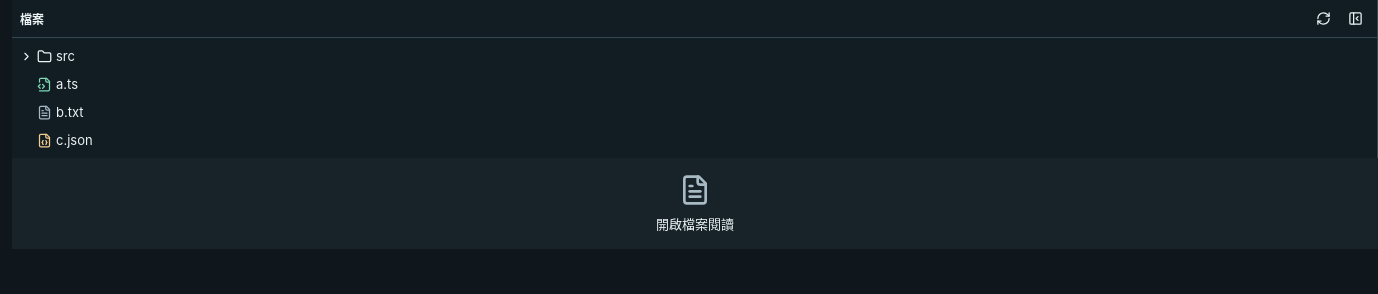
Test: closes active last file only, scopes shortcuts, and supports keyboard resizing/reordering
Double-click the button "a.ts".
double_click(44, 84)  # box [16,70,1373,98]
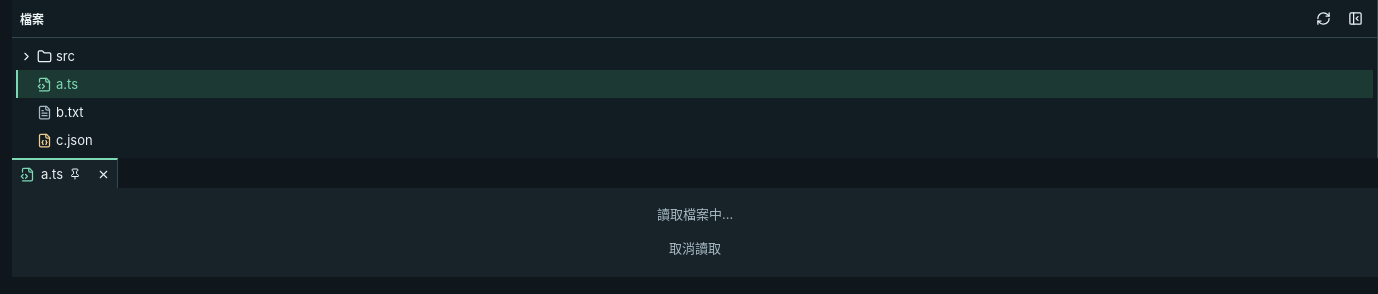
Double-click the button "b.txt".
double_click(44, 112)  # box [16,98,1373,126]
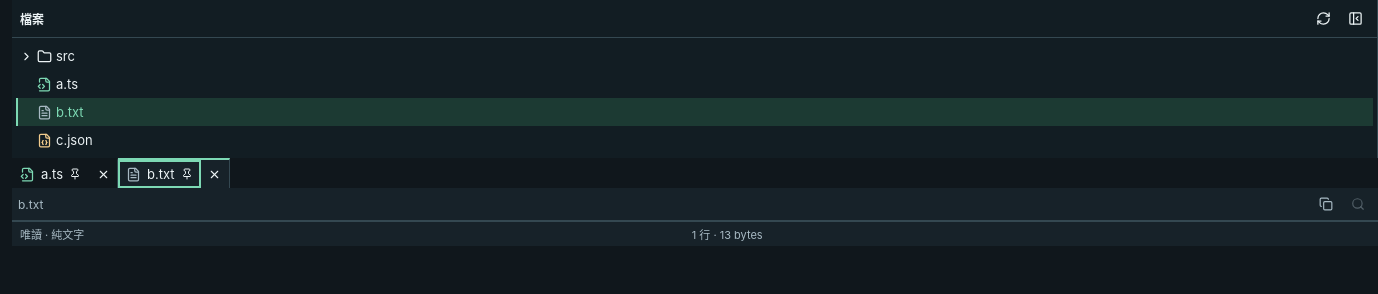
Press ArrowLeft in the tab "b.txt", box [118,160,201,188]
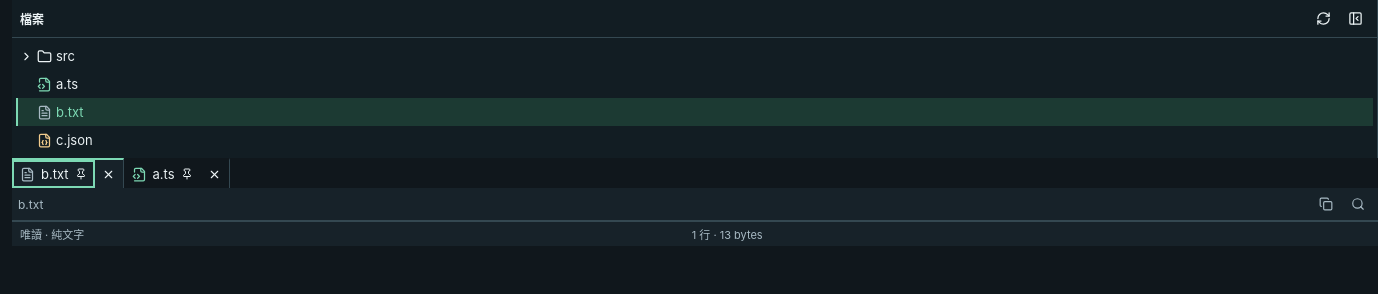
Press w in the element showing "b.txt 唯讀 · 純文字 1 行 · 13 bytes", box [12,188,1377,246]
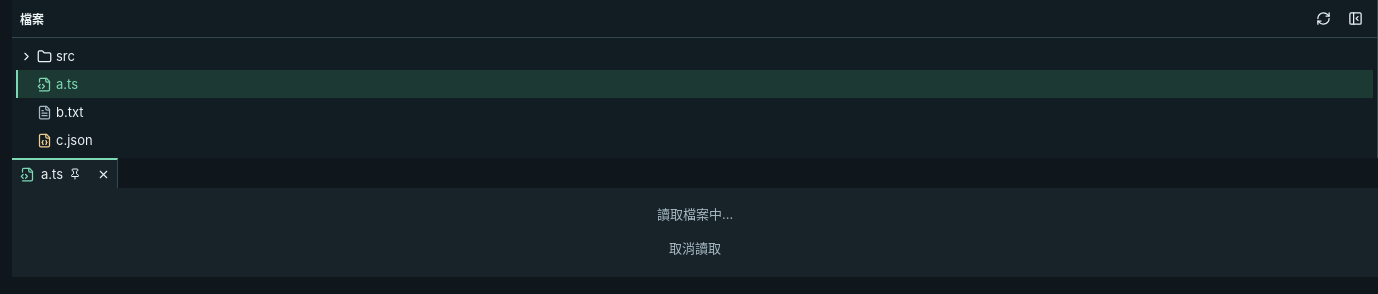
expect the number of tabs is 1: met, box [12,160,89,188]
Press w in the element showing "讀取檔案中… 取消讀取", box [12,188,1377,277]
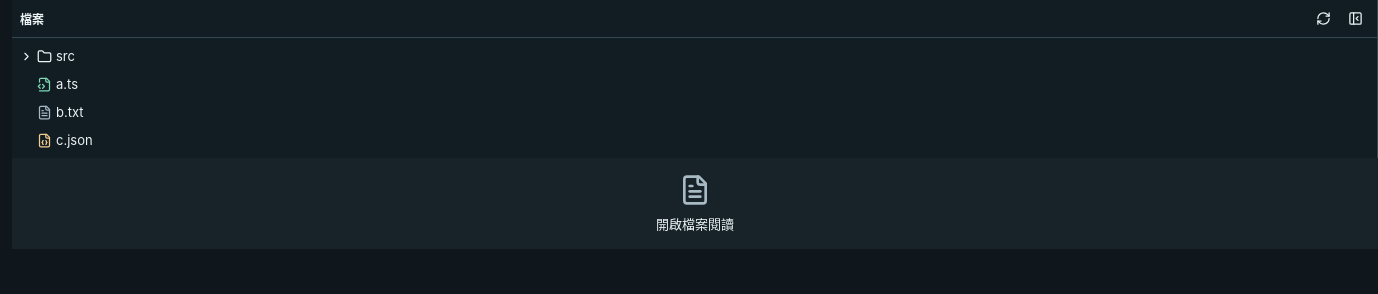
expect the tab is gone: met
